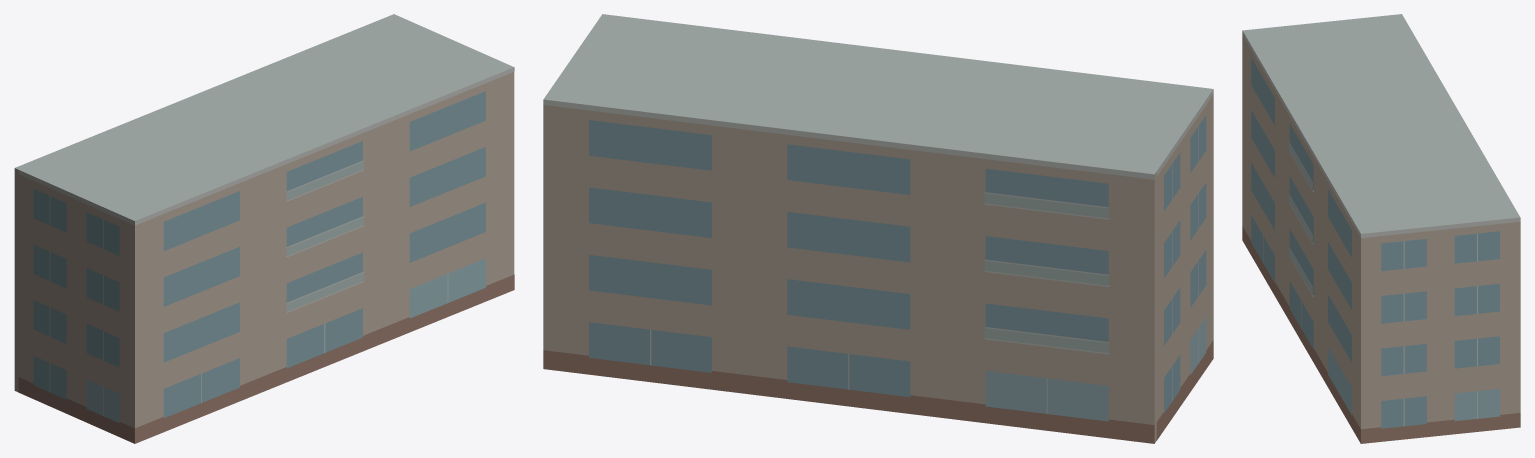
Rendered from survey-upis-32720113.glb.
3 renders of one model, left to right at view 1: azimuth 30°, elevation 25°; view 2: azimuth 150°, elevation 25°; view 3: azimuth 270°, elevation 25°, orthographic. The views are drawn at different scales.
Parts seen in each view (by area): view 1: survey-upis-32720113.tmp; view 2: survey-upis-32720113.tmp; view 3: survey-upis-32720113.tmp.
Boxes of the visible parts, x1=… form: survey-upis-32720113.tmp: x1=14, y1=14, x2=514, y2=443; survey-upis-32720113.tmp: x1=543, y1=14, x2=1213, y2=443; survey-upis-32720113.tmp: x1=1242, y1=14, x2=1520, y2=443.
Bounding box in the file's own units: 27.41 × 12.2 × 14.65.
